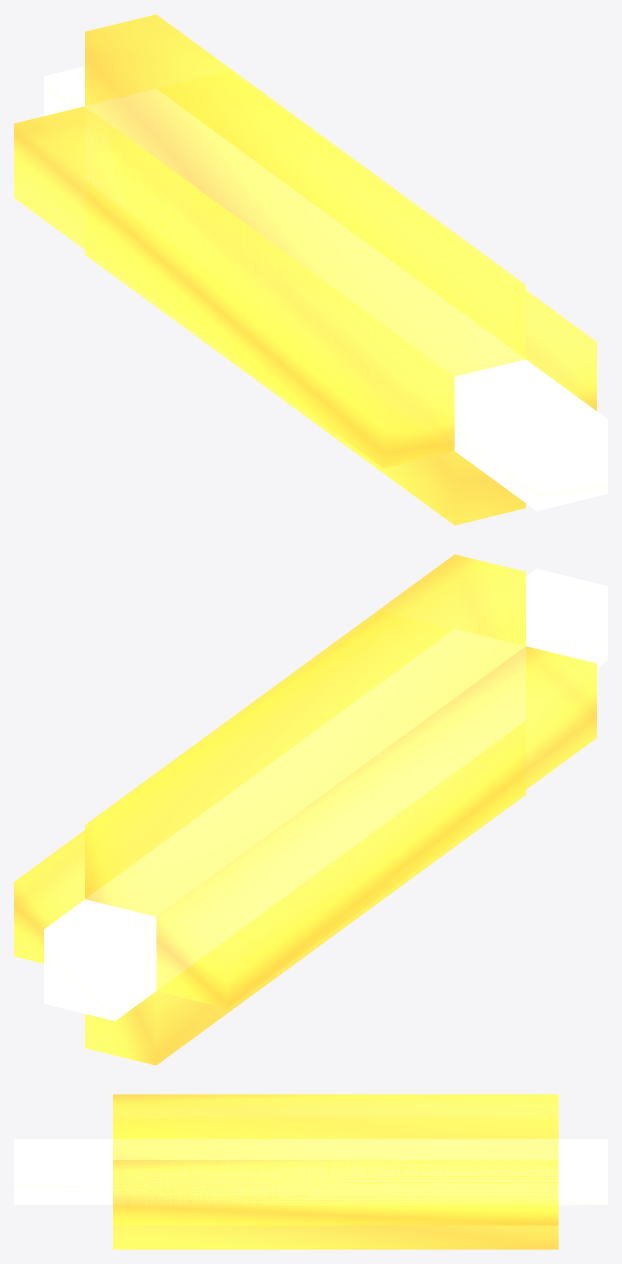
Rendered from tracer.glb.
3 renders of one model, top to bottom at view 1: azimuth 30°, elevation 25°; view 2: azimuth 150°, elevation 25°; view 3: azimuth 270°, elevation 25°, orthographic. The views are drawn at different scales.
Visible parts, largest first — view 1: layer.glow, layer.core; view 2: layer.glow, layer.core; view 3: layer.glow, layer.core.
Part boxes in pixels (x1,y1,x2,y2): layer.glow: [14, 14, 596, 525]; layer.core: [44, 66, 607, 510]; layer.glow: [14, 554, 596, 1065]; layer.core: [44, 569, 607, 1020]; layer.glow: [113, 1094, 558, 1249]; layer.core: [14, 1139, 607, 1204].
Size of the model in its own units: 0.0938 by 0.0938 by 0.375.
